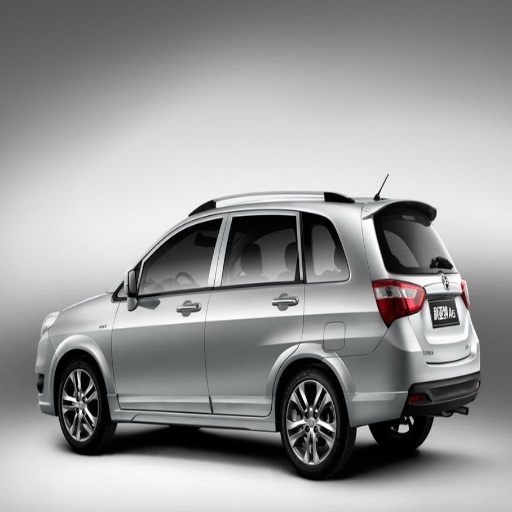back_bumper: (339, 317, 482, 424)
back_glass: (370, 207, 448, 273)
back_left_door: (205, 210, 301, 414)
front_left_door: (112, 212, 226, 409)
tailgate: (413, 268, 470, 344)
